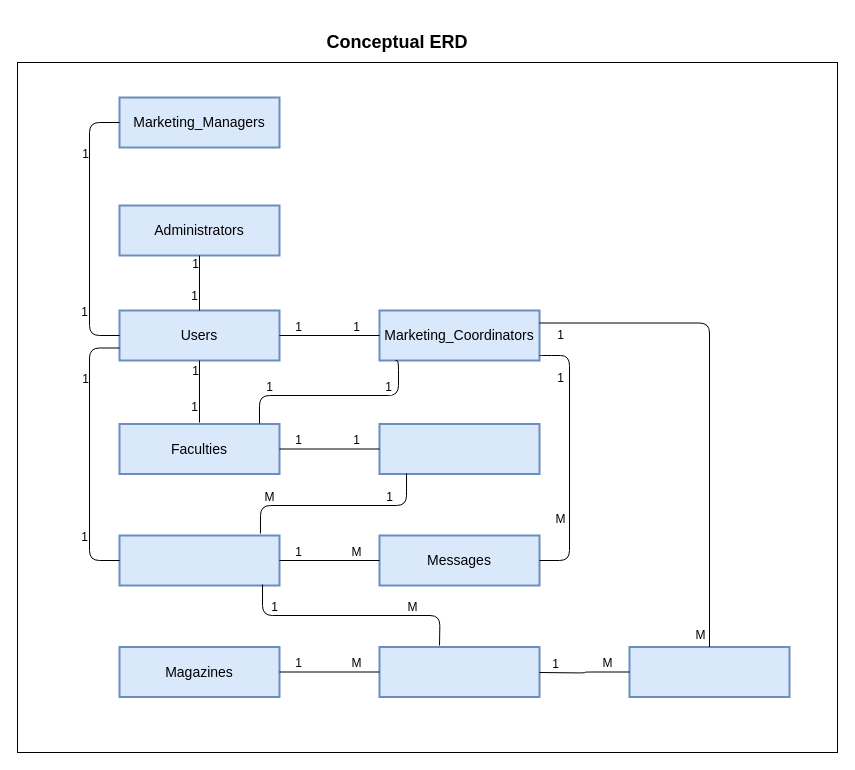
This 855x770 diagram has some shape labels left out. Each missing label, with the box of its shape:
Contributions: (378, 646, 540, 698)
Faculty_Guests: (378, 422, 540, 474)
Notifications: (628, 646, 790, 698)
Students: (118, 534, 280, 586)
